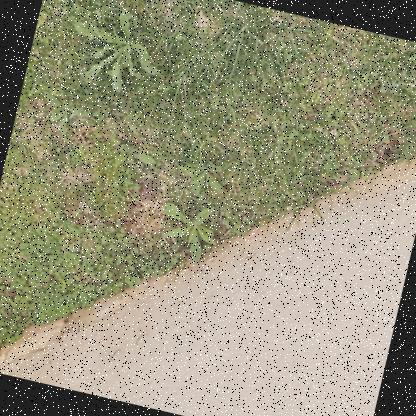Weeds: (60, 0, 175, 102), (154, 195, 226, 268), (35, 88, 92, 141), (174, 154, 232, 202), (114, 141, 159, 174), (51, 213, 85, 241)
